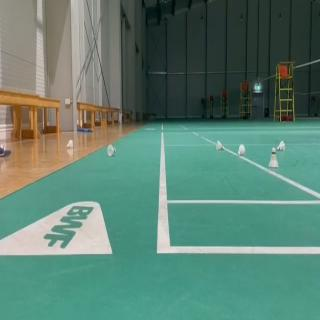Shuttle: (268, 147, 279, 168), (237, 144, 246, 156), (277, 140, 286, 152), (108, 144, 116, 157), (216, 140, 224, 151), (66, 139, 74, 149)
